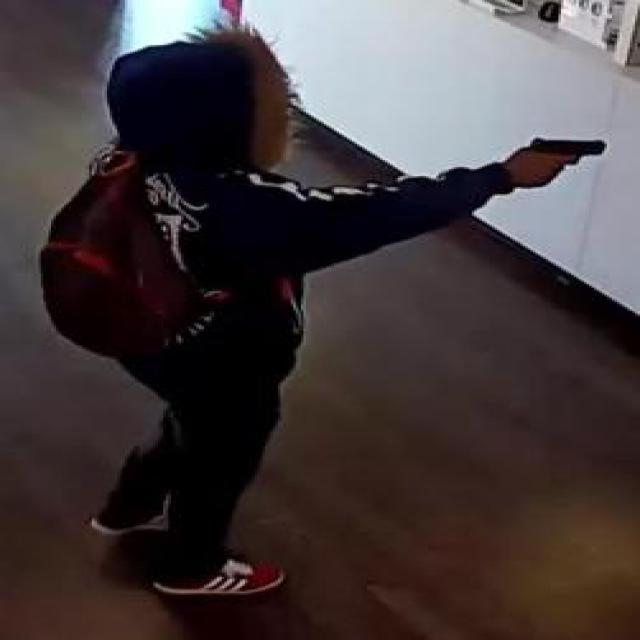weapon: (520, 137, 608, 190)
